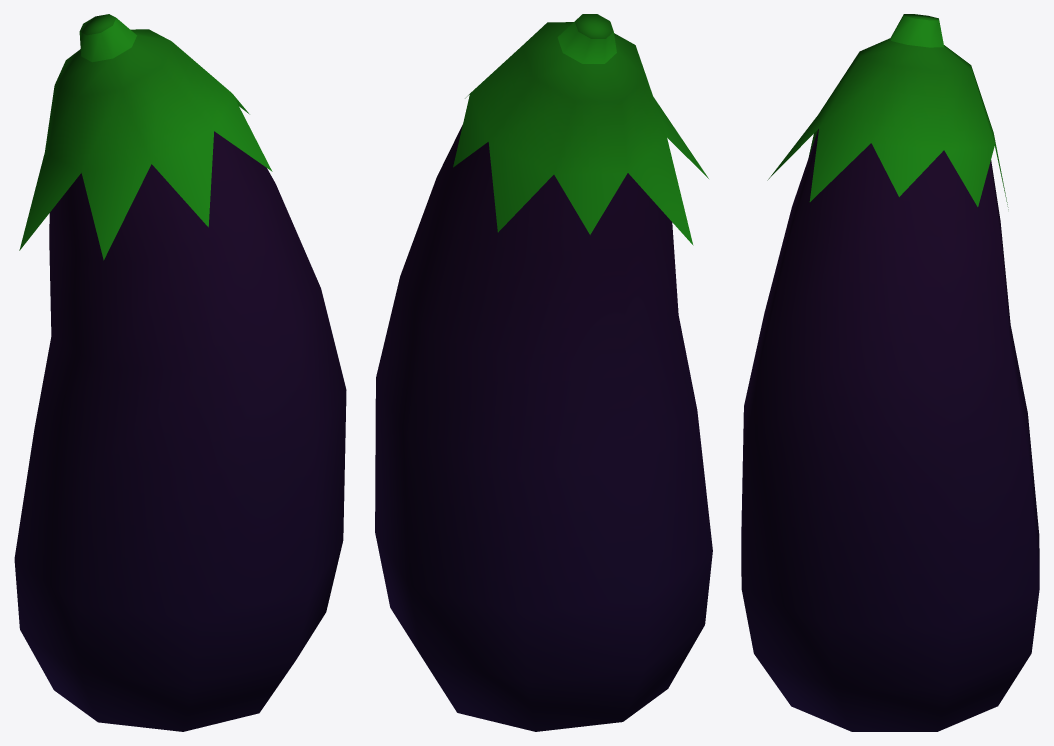
Rendered from Cucumber_Regular.fbx.
The picture shows the model from 3 angles, left to right: view 1: azimuth 30°, elevation 25°; view 2: azimuth 150°, elevation 25°; view 3: azimuth 270°, elevation 25°; orthographic projection. The views are drawn at different scales.
Visible parts, largest first — view 1: Cucumber_Regular; view 2: Cucumber_Regular; view 3: Cucumber_Regular.
Boxes of the visible parts, bbox=[...] form: Cucumber_Regular: bbox=[14, 14, 346, 731]; Cucumber_Regular: bbox=[375, 14, 712, 731]; Cucumber_Regular: bbox=[741, 14, 1039, 731].
Bounding box in the file's own units: 22.14 × 51.36 × 20.42.
